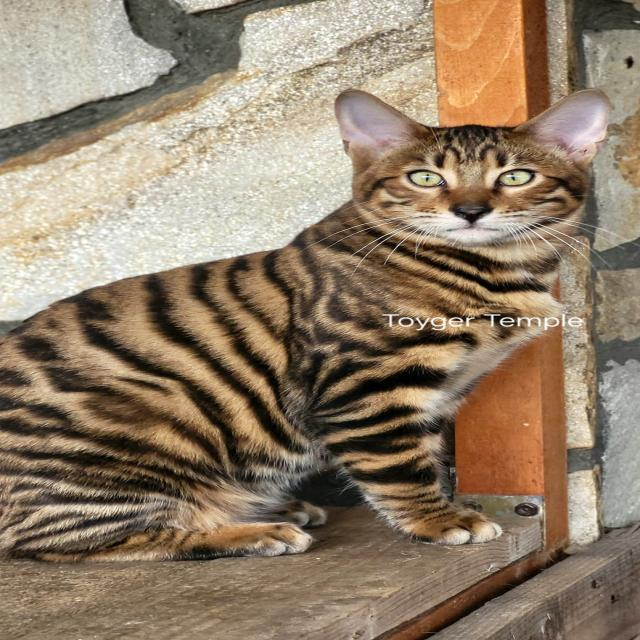Toyger: (0, 83, 621, 573)
